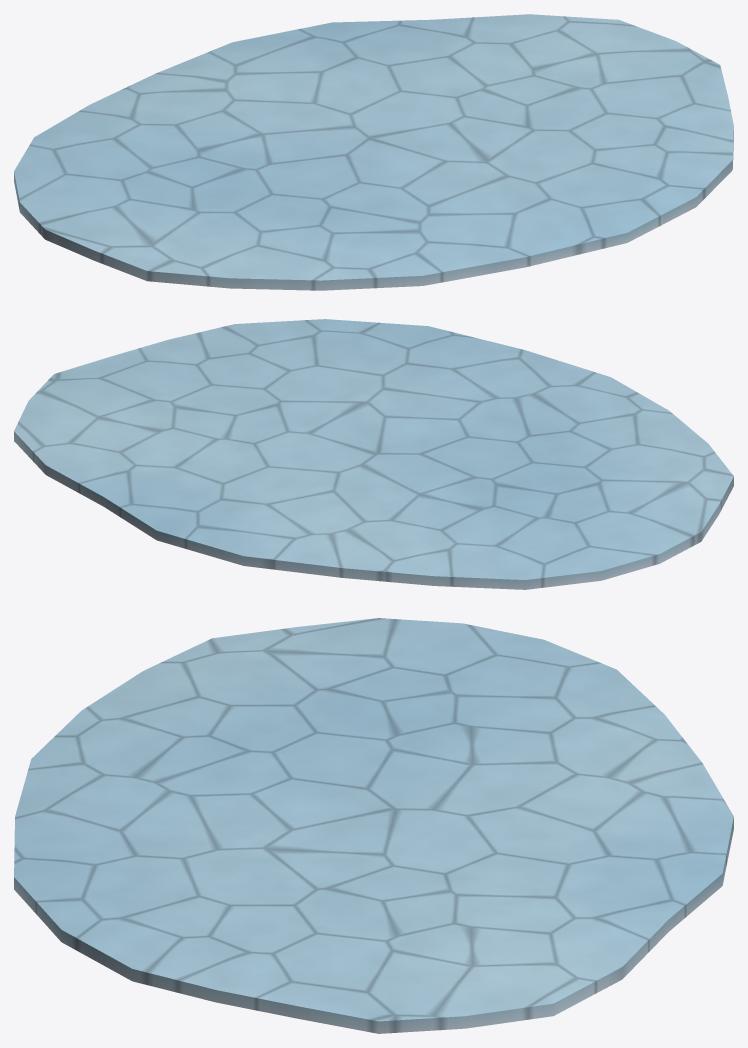
File: fm_ice_patch_a.glb
3 views of the same model, one above another, from view 1: azimuth 30°, elevation 25°; view 2: azimuth 150°, elevation 25°; view 3: azimuth 270°, elevation 25° (orthographic). The views are drawn at different scales.
Parts seen in each view (by area): view 1: fm_ice_patch_a; view 2: fm_ice_patch_a; view 3: fm_ice_patch_a.
Part boxes in pixels (left/top/right/bottom): fm_ice_patch_a: left=14, top=14, right=733, bottom=290; fm_ice_patch_a: left=14, top=319, right=733, bottom=589; fm_ice_patch_a: left=14, top=618, right=733, bottom=1033.
Size of the model in its own units: 1.82 by 0.041 by 1.37.
1 material, 1 textured.
